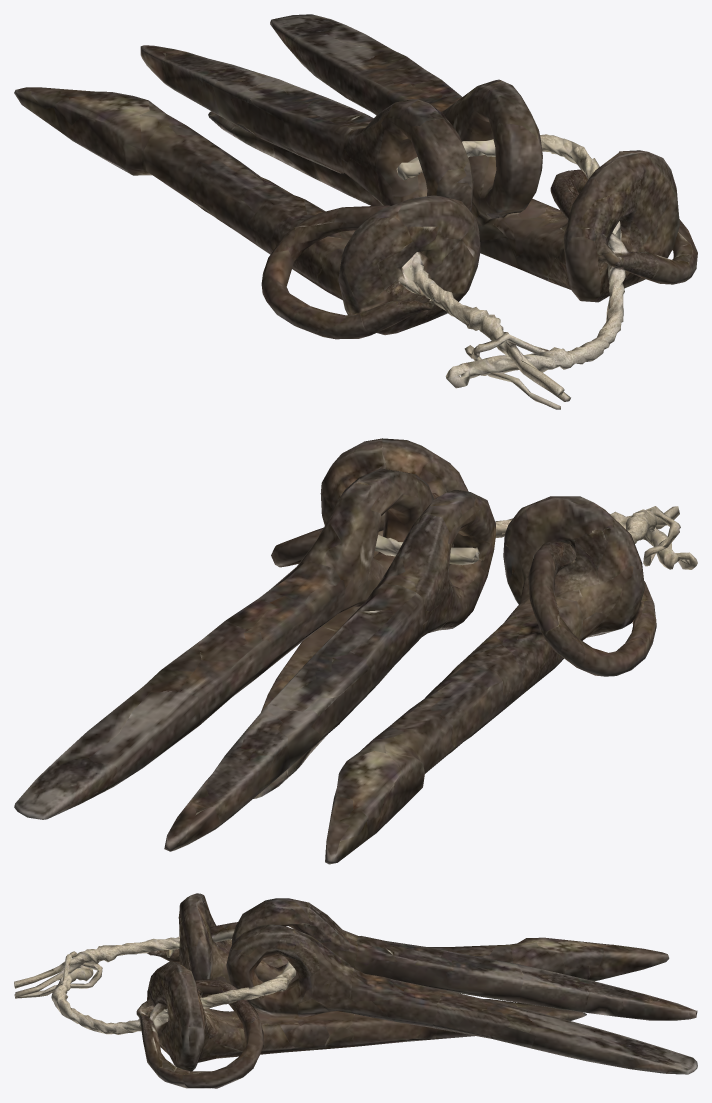
The model's file is piton.c93ff31a.glb.
3 renders of one model, top to bottom at view 1: azimuth 30°, elevation 25°; view 2: azimuth 150°, elevation 25°; view 3: azimuth 270°, elevation 25°, orthographic. The views are drawn at different scales.
Parts seen in each view (by area): view 1: item; view 2: item; view 3: item.
Boxes of the visible parts, x1,y1,x2,y2 form: item: (14, 14, 697, 409); item: (14, 438, 697, 864); item: (14, 893, 697, 1088).
Size of the model in its own units: 0.0852 by 0.0335 by 0.1797.
Materials: 1 (1 with a texture image).
